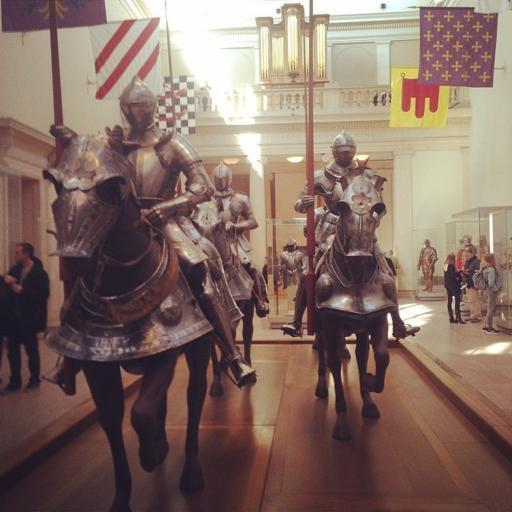horse: (44, 123, 214, 511), (314, 174, 390, 442), (190, 194, 260, 394)
